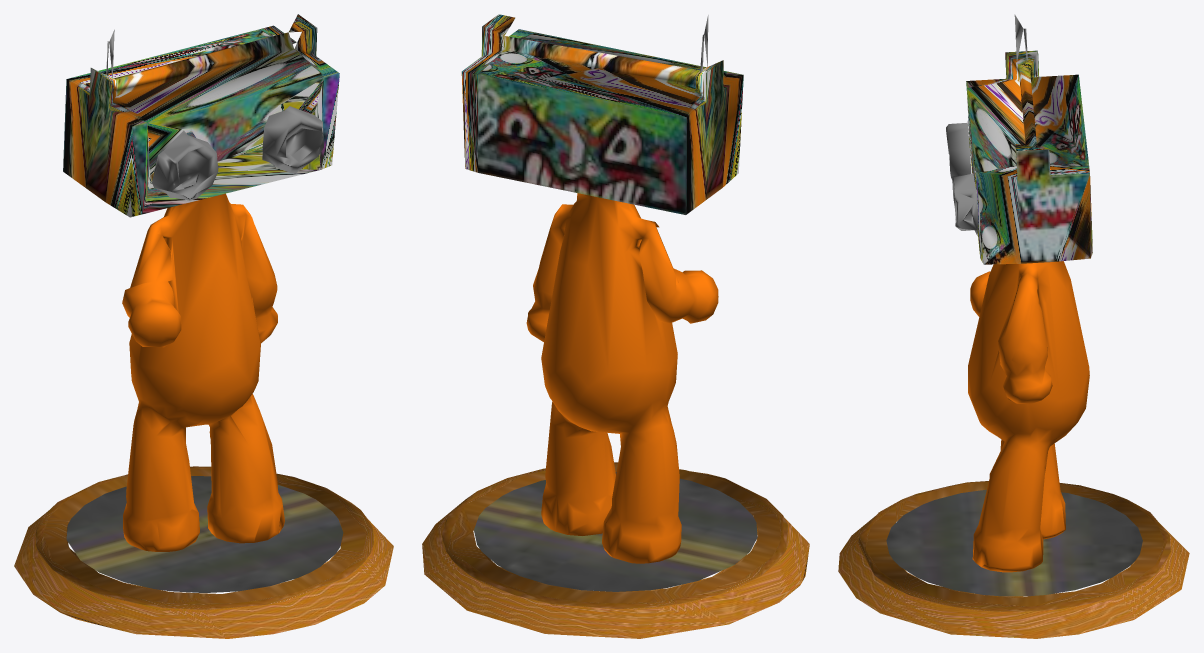
3 views of the same model, side by side, from view 1: azimuth 30°, elevation 25°; view 2: azimuth 150°, elevation 25°; view 3: azimuth 270°, elevation 25° (orthographic). The views are drawn at different scales.
Size of the model in its own units: 1.44 by 2.31 by 1.44.
Materials: 5 (3 with a texture image).
